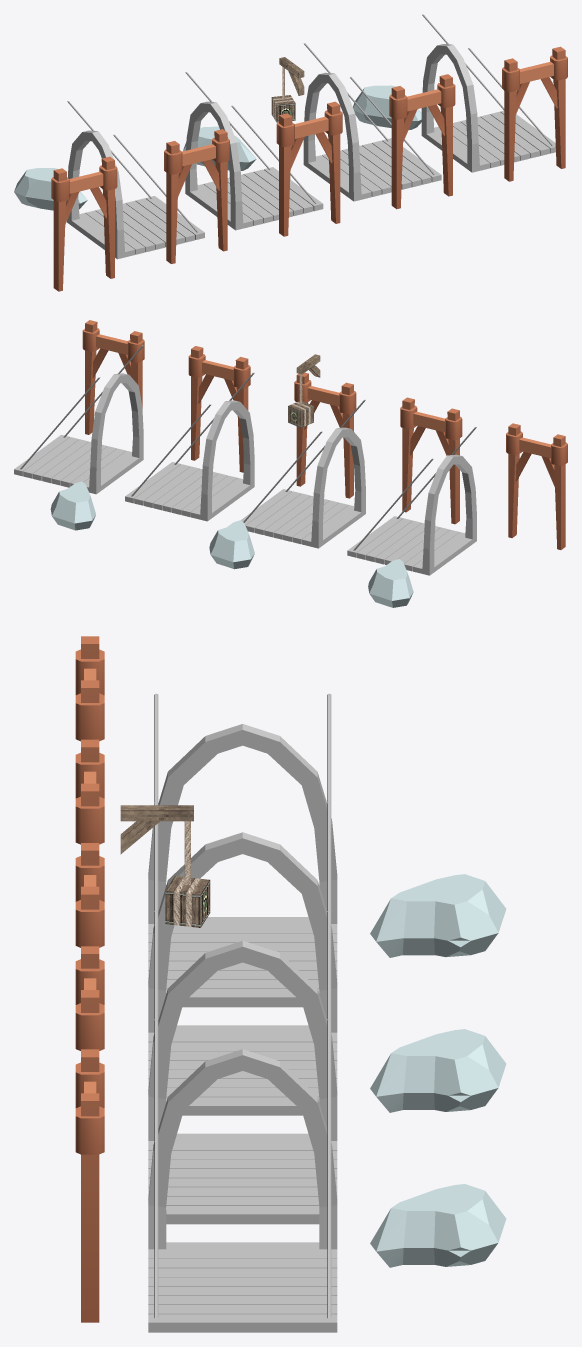
Rendered from london_landmark_base.glb.
The picture shows the model from 3 angles, top to bottom: view 1: azimuth 30°, elevation 25°; view 2: azimuth 150°, elevation 25°; view 3: azimuth 270°, elevation 25°; orthographic projection. The views are drawn at different scales.
Parts seen in each view (by area): view 1: Bridge_Cube.006 (×4), wood-support (×5), stone_largeB (×3), pulley-crate; view 2: Bridge_Cube.006 (×4), wood-support (×5), stone_largeB (×3), pulley-crate; view 3: Bridge_Cube.006 (×4), stone_largeB (×3), wood-support (×5), pulley-crate.
Part boxes in pixels (x1,y1,x2,y2): Bridge_Cube.006 (×4): (67,14,555,259); wood-support (×5): (51,46,567,291); stone_largeB (×3): (14,85,421,210); pulley-crate: (271,57,304,122); Bridge_Cube.006 (×4): (14,345,476,575); wood-support (×5): (82,320,567,549); stone_largeB (×3): (50,481,413,607); pulley-crate: (288,354,320,427); Bridge_Cube.006 (×4): (148,693,337,1332); stone_largeB (×3): (370,874,506,1267); wood-support (×5): (75,636,104,1322); pulley-crate: (120,805,210,927).
Bounding box in the file's own units: 18.52 × 5.21 × 7.06.
Materials: 22 (8 with a texture image).
